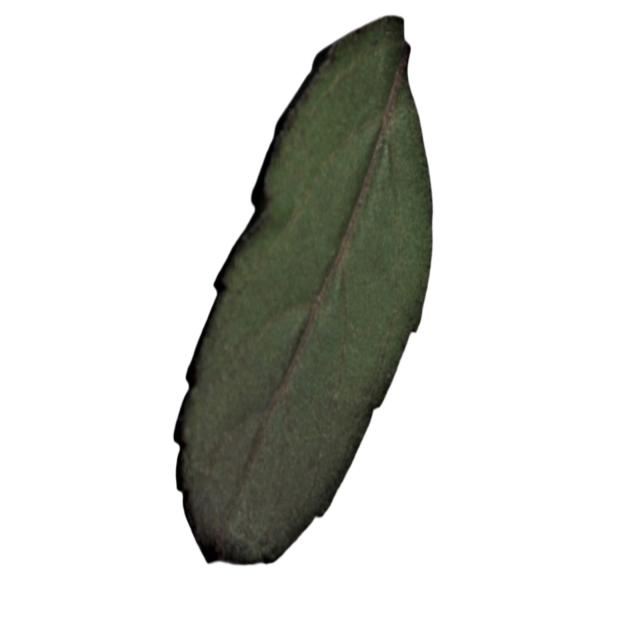tulsi: (171, 8, 437, 564)
